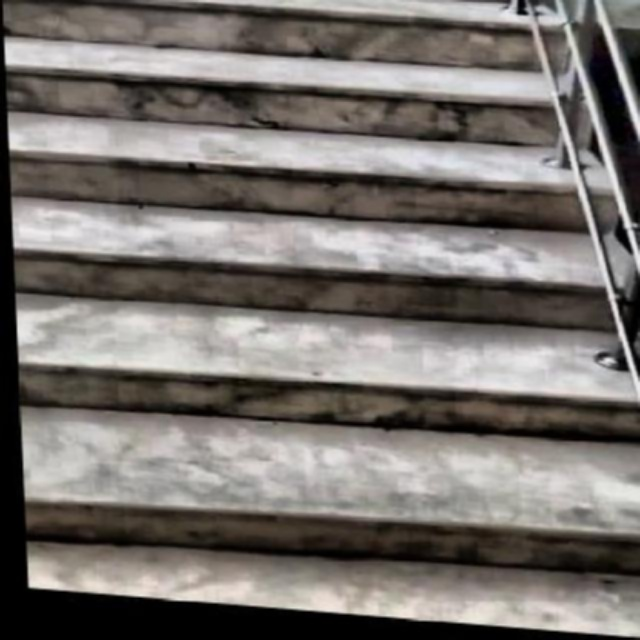stair: (2, 0, 613, 572)
